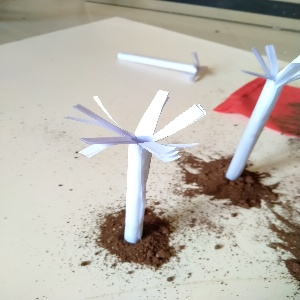weed: (66, 83, 178, 271), (221, 40, 288, 198), (111, 39, 208, 88)
